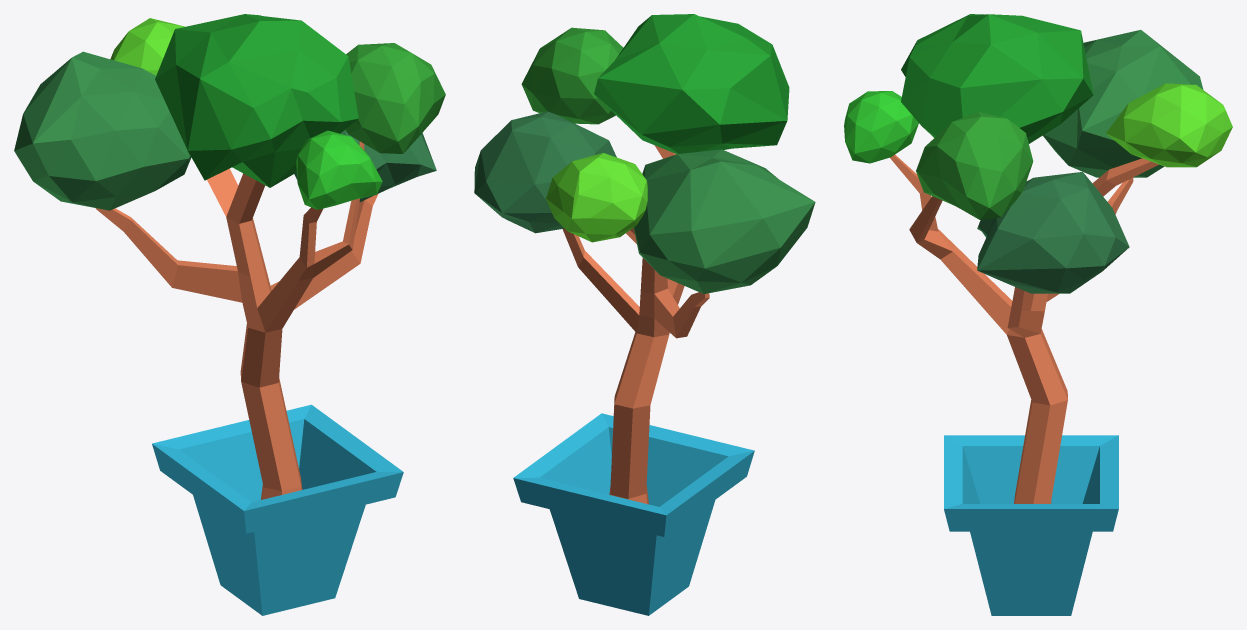
Rendered from tree_pot.fbx.
3 views of the same model, side by side, from view 1: azimuth 30°, elevation 25°; view 2: azimuth 150°, elevation 25°; view 3: azimuth 270°, elevation 25° (orthographic). The views are drawn at different scales.
Visible parts, largest first — view 1: Cube.001, Icosphere.002, Cube, Icosphere.003, Icosphere.005, Icosphere.004, Icosphere, Icosphere.001; view 2: Cube.001, Icosphere.002, Icosphere.003, Cube, Icosphere.001, Icosphere, Icosphere.005; view 3: Cube.001, Icosphere.002, Cube, Icosphere.001, Icosphere.003, Icosphere.005, Icosphere, Icosphere.004.
Part boxes in pixels (x1,y1,x2,y2): Cube.001: (152, 404, 403, 615); Icosphere.002: (155, 14, 358, 187); Cube: (95, 141, 378, 499); Icosphere.003: (14, 51, 191, 210); Icosphere.005: (345, 43, 445, 153); Icosphere.004: (296, 130, 382, 209); Icosphere: (110, 18, 184, 75); Icosphere.001: (294, 130, 436, 201); Cube.001: (513, 413, 754, 615); Icosphere.002: (594, 14, 789, 153); Icosphere.003: (634, 149, 815, 293); Cube: (562, 145, 709, 504); Icosphere.001: (474, 111, 616, 233); Icosphere: (546, 153, 647, 242); Icosphere.005: (521, 27, 623, 124); Cube.001: (944, 435, 1118, 615); Icosphere.002: (901, 14, 1093, 143); Cube: (890, 154, 1158, 503); Icosphere.001: (977, 172, 1129, 293); Icosphere.003: (1043, 30, 1203, 177); Icosphere.005: (916, 112, 1033, 219); Icosphere: (1106, 83, 1232, 167); Icosphere.004: (844, 91, 918, 163).
Bounding box in the file's own units: 161 × 252 × 157.
